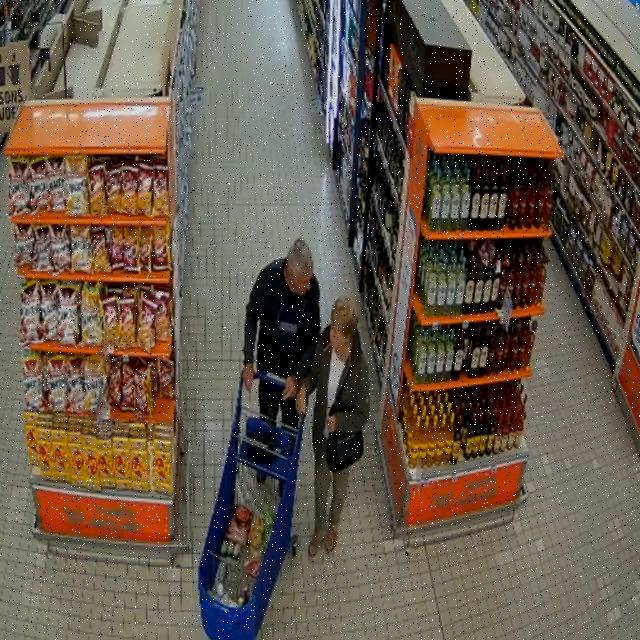bags: (327, 431, 364, 472)
hands: (242, 363, 255, 391), (283, 376, 298, 400), (296, 384, 307, 416), (327, 414, 336, 433)
person: (297, 298, 369, 558), (243, 239, 321, 427)
